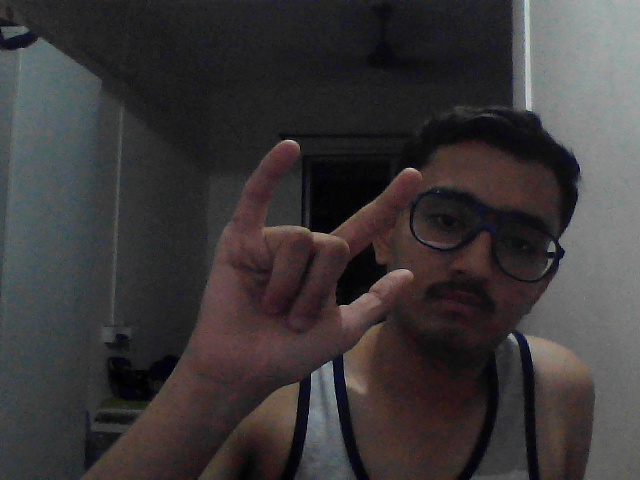I Love You: (195, 119, 429, 383)
